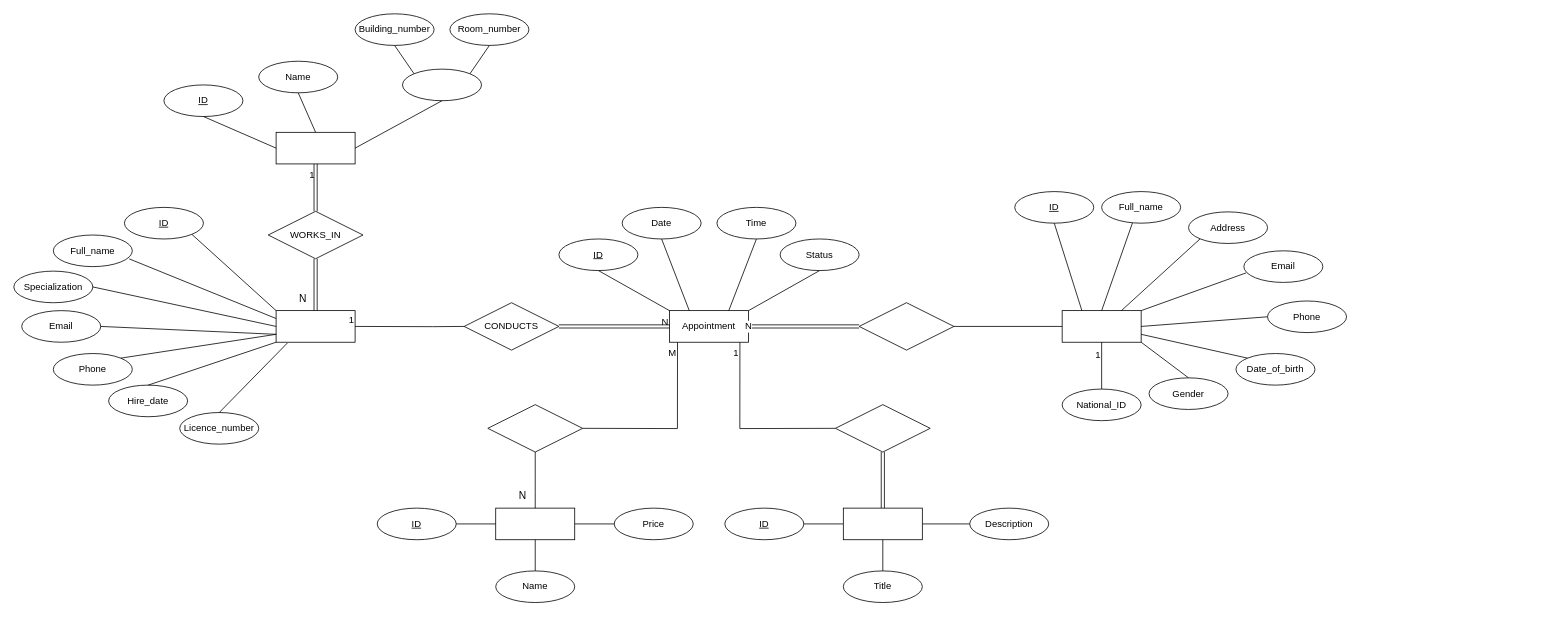
The diagram is 1563 pixels wide and 617 high, and some of its shapes have lost their labels. The shapes that lost their labels are listed below. From the top down, each one's centre as x and y in pixels, then its label:
At (x=442, y=84): "Location".
At (x=315, y=148): "Department".
At (x=315, y=326): "Doctor".
At (x=906, y=326): "MAKES".
At (x=1101, y=326): "Patient".
At (x=535, y=428): "INVOLVES".
At (x=882, y=428): "RESULTS".
At (x=535, y=523): "Procedure".
At (x=882, y=523): "Diagnosis".
